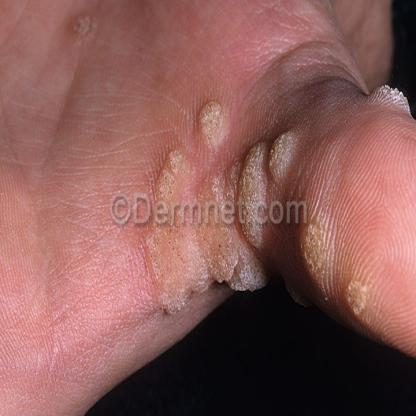Warts: (266, 126, 303, 186), (196, 94, 228, 151), (153, 139, 181, 200), (340, 272, 370, 323)
